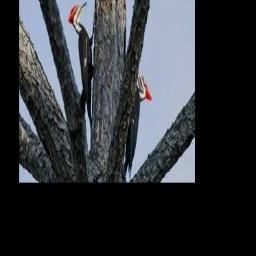Woodpecker: (69, 1, 96, 128), (124, 63, 152, 177)
